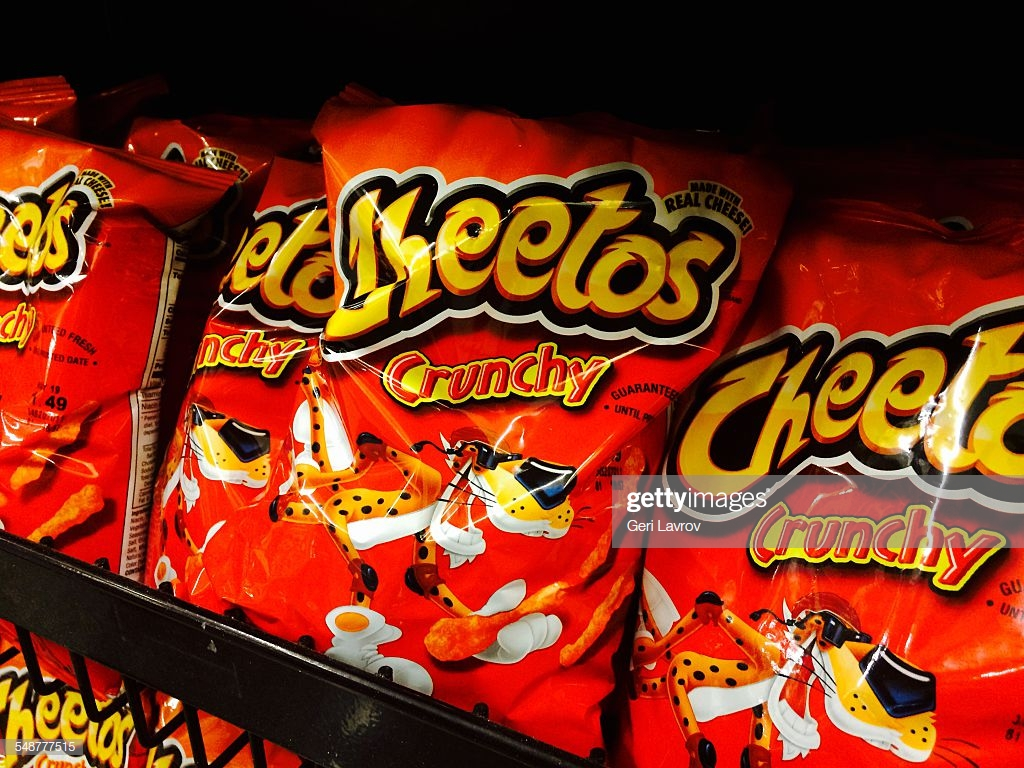cheetos: (215, 89, 779, 731)
